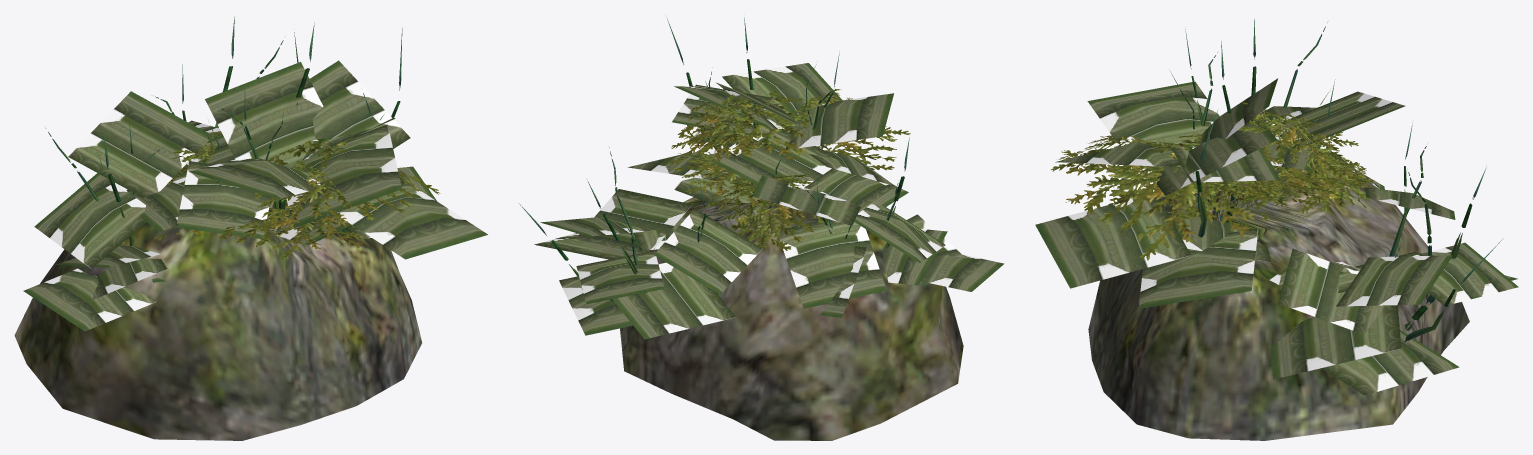
The model's file is S_Rock_Green021_A1.FBX.
The picture shows the model from 3 angles, left to right: view 1: azimuth 30°, elevation 25°; view 2: azimuth 150°, elevation 25°; view 3: azimuth 270°, elevation 25°; orthographic projection. The views are drawn at different scales.
Visible parts, largest first — view 1: S_Rock_Green021_A1; view 2: S_Rock_Green021_A1; view 3: S_Rock_Green021_A1.
Boxes of the visible parts, x1,y1,x2,y2 form: S_Rock_Green021_A1: (14, 16, 487, 440); S_Rock_Green021_A1: (519, 17, 1004, 440); S_Rock_Green021_A1: (1035, 19, 1518, 440).
Size of the model in its own units: 569 by 450 by 547.
